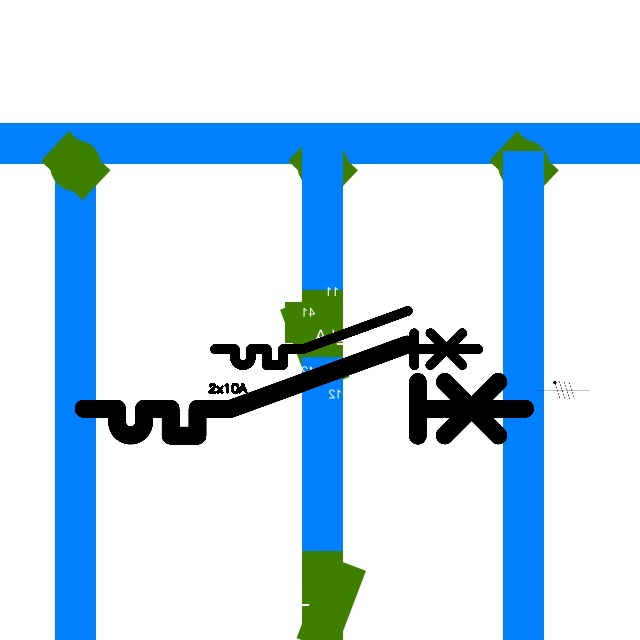interruptor_termomagnetico: (72, 333, 537, 447), (208, 304, 485, 372)
